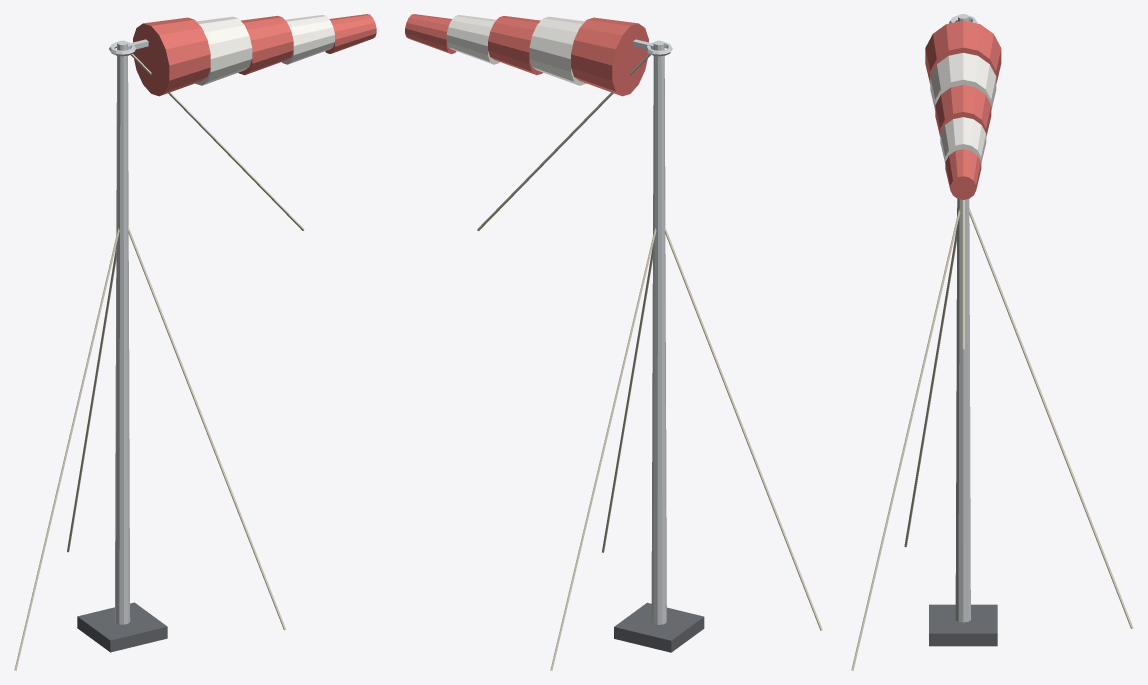
File: hot-air-balloon-festival-windsock-and-pole-e521aef8__38503.glb
The picture shows the model from 3 angles, left to right: view 1: azimuth 30°, elevation 25°; view 2: azimuth 150°, elevation 25°; view 3: azimuth 270°, elevation 25°; orthographic projection. The views are drawn at different scales.
Visible parts, largest first — view 1: windsock-and-pole-steel, windsock-and-pole-canvasA, windsock-and-pole-canvasB, windsock-and-pole-rope, windsock-and-pole-charcoal; view 2: windsock-and-pole-steel, windsock-and-pole-canvasA, windsock-and-pole-canvasB, windsock-and-pole-rope, windsock-and-pole-charcoal; view 3: windsock-and-pole-steel, windsock-and-pole-canvasA, windsock-and-pole-rope, windsock-and-pole-canvasB, windsock-and-pole-charcoal.
Part boxes in pixels (bbox=[...]): windsock-and-pole-steel: bbox=[109, 39, 148, 624]; windsock-and-pole-canvasA: bbox=[133, 14, 376, 96]; windsock-and-pole-canvasB: bbox=[195, 15, 334, 85]; windsock-and-pole-rope: bbox=[14, 54, 304, 670]; windsock-and-pole-charcoal: bbox=[77, 602, 167, 652]; windsock-and-pole-steel: bbox=[633, 39, 672, 624]; windsock-and-pole-canvasA: bbox=[405, 14, 648, 96]; windsock-and-pole-canvasB: bbox=[446, 15, 586, 85]; windsock-and-pole-rope: bbox=[477, 54, 822, 670]; windsock-and-pole-charcoal: bbox=[614, 602, 704, 652]; windsock-and-pole-steel: bbox=[949, 14, 977, 622]; windsock-and-pole-canvasA: bbox=[925, 20, 1001, 199]; windsock-and-pole-rope: bbox=[851, 200, 1133, 670]; windsock-and-pole-canvasB: bbox=[930, 52, 996, 162]; windsock-and-pole-charcoal: bbox=[929, 604, 997, 646].
Bounding box in the file's own units: 4.02 × 6.02 × 2.46.
